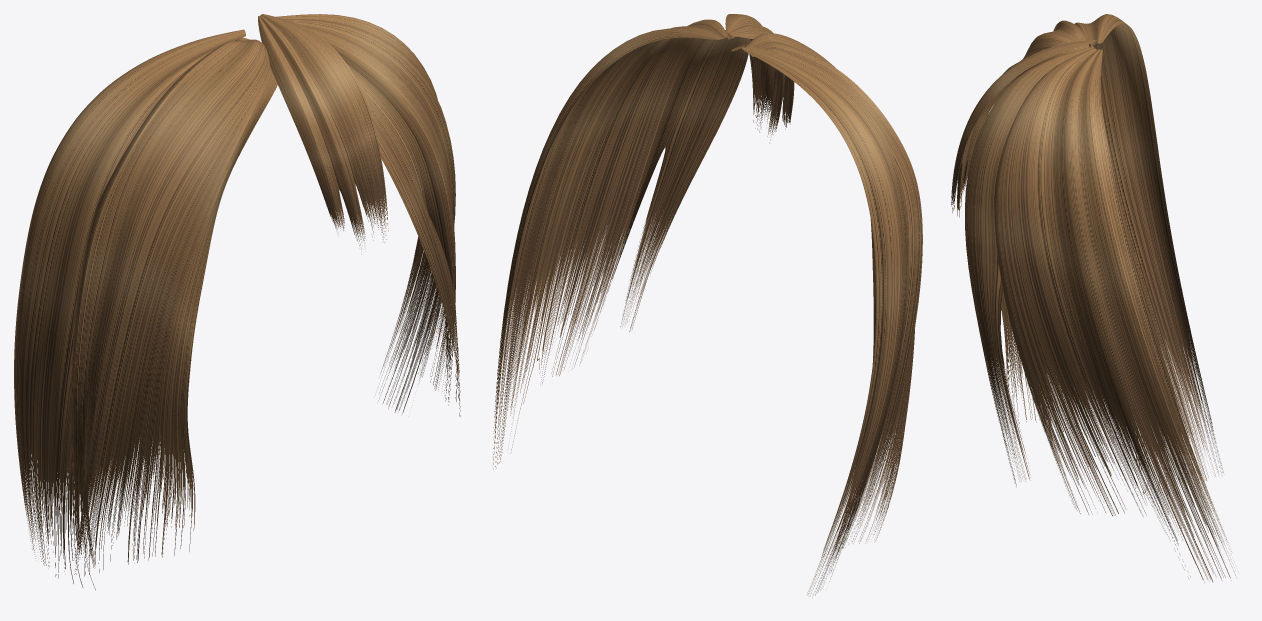
File: Hair.fbx
3 views of the same model, side by side, from view 1: azimuth 30°, elevation 25°; view 2: azimuth 150°, elevation 25°; view 3: azimuth 270°, elevation 25° (orthographic). The views are drawn at different scales.
Parts seen in each view (by area): view 1: Hair; view 2: Hair; view 3: Hair.
Boxes of the visible parts, bbox=[...] form: Hair: bbox=[14, 14, 460, 590]; Hair: bbox=[493, 14, 922, 595]; Hair: bbox=[951, 14, 1236, 582].
Bounding box in the file's own units: 36.16 × 46.33 × 23.57.
